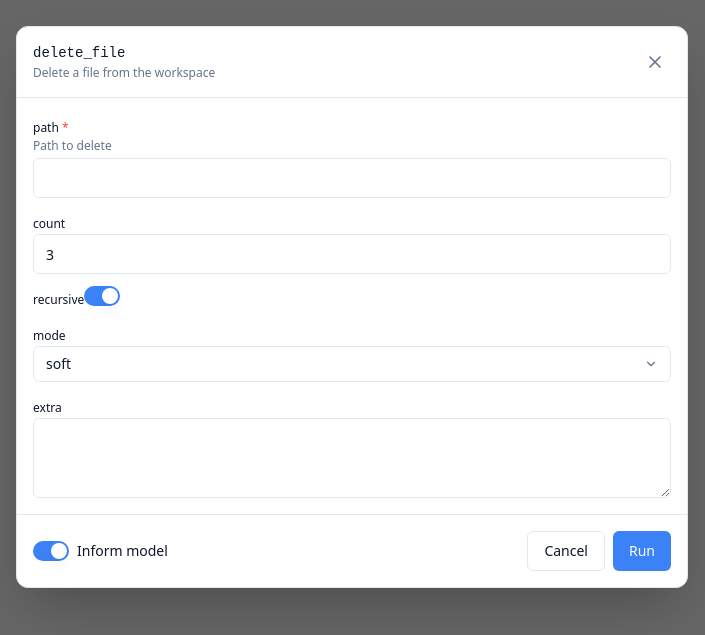
Test: ChatInvokeForm › blocks Run and shows a Required error when a required field is left empty
Click the button "Run" at (642, 551), box [613,531,671,571]
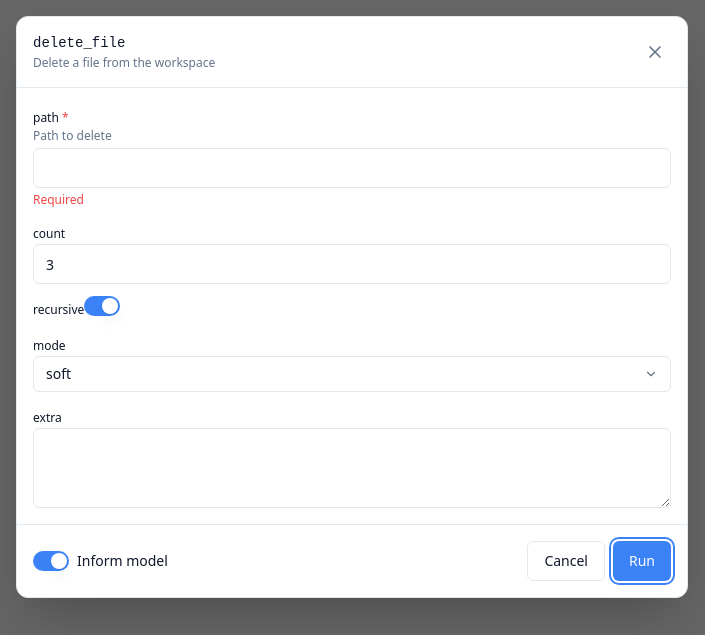
Result: the text "Required" is shown at [33,191,84,208]
